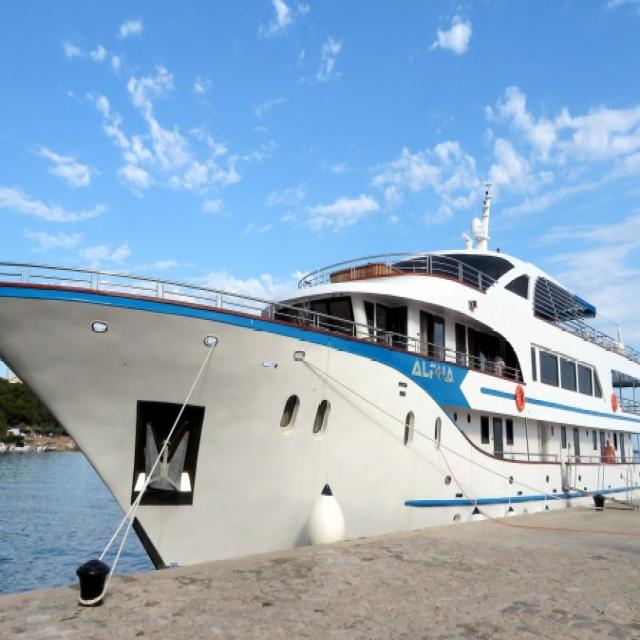cruises: (1, 182, 640, 574)
